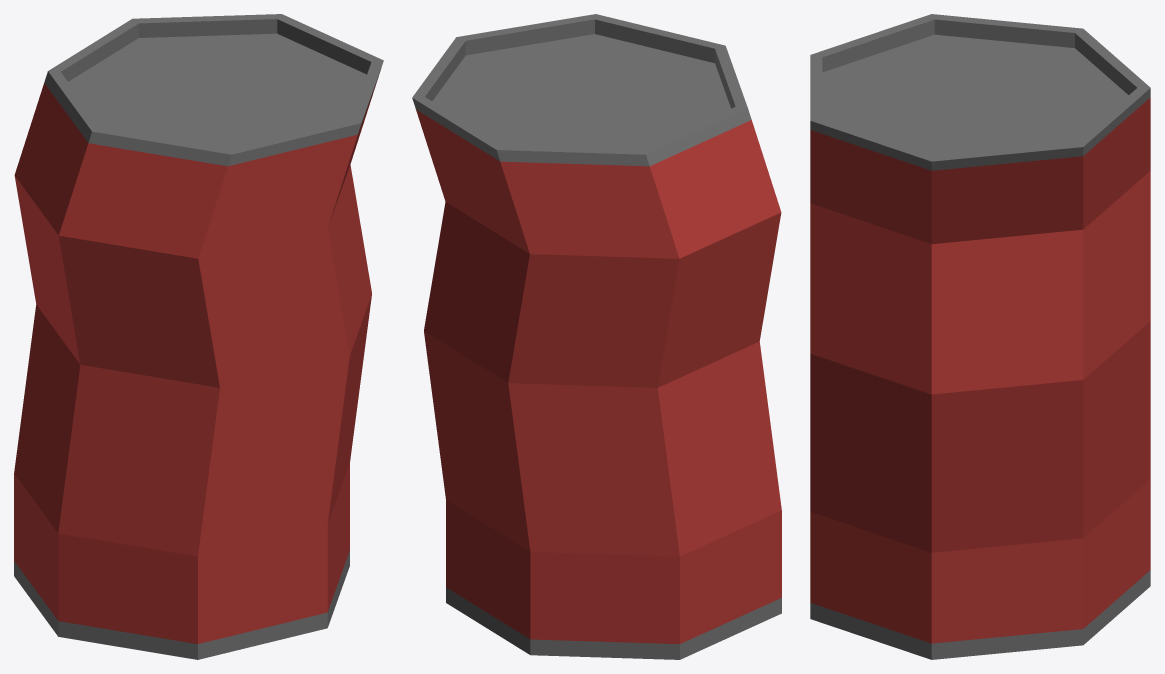
Rendered from RedCan001.fbx.
The picture shows the model from 3 angles, left to right: view 1: azimuth 30°, elevation 25°; view 2: azimuth 150°, elevation 25°; view 3: azimuth 270°, elevation 25°; orthographic projection. The views are drawn at different scales.
Parts seen in each view (by area): view 1: CanRed001; view 2: CanRed001; view 3: CanRed001.
Boxes of the visible parts, x1,y1,x2,y2 form: CanRed001: [14, 14, 383, 659]; CanRed001: [412, 14, 781, 659]; CanRed001: [810, 14, 1150, 659].
Bounding box in the file's own units: 74.53 × 109 × 65.11.
